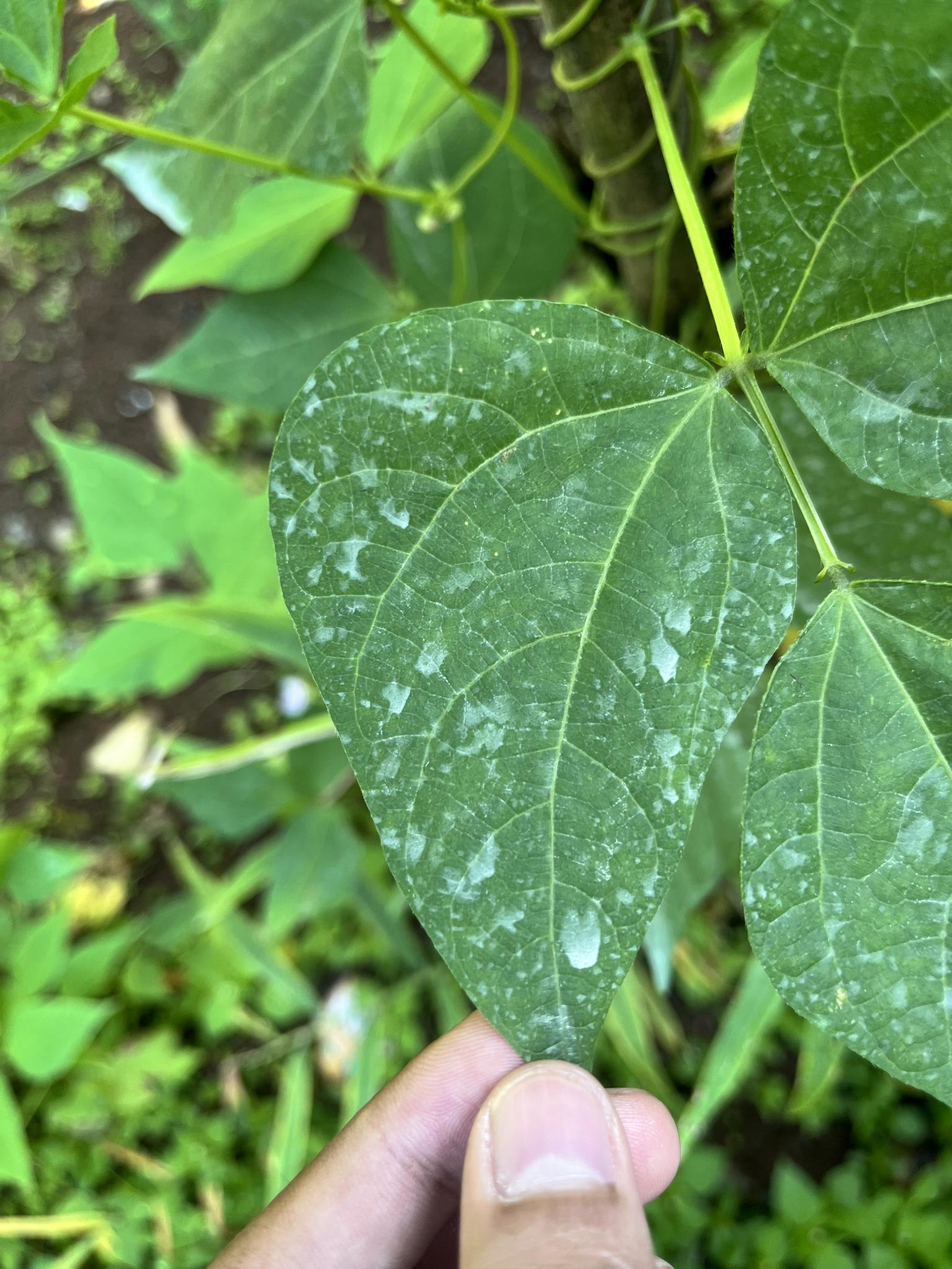embun tepung: (265, 293, 811, 1078)
